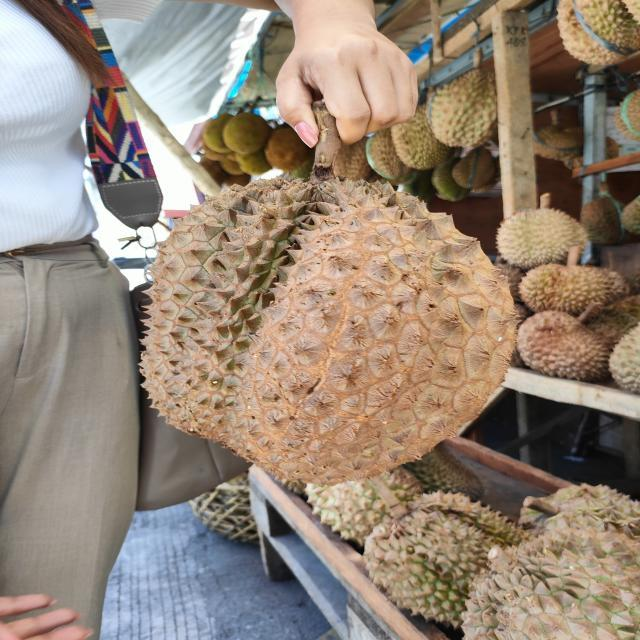mature: (120, 169, 522, 483)
